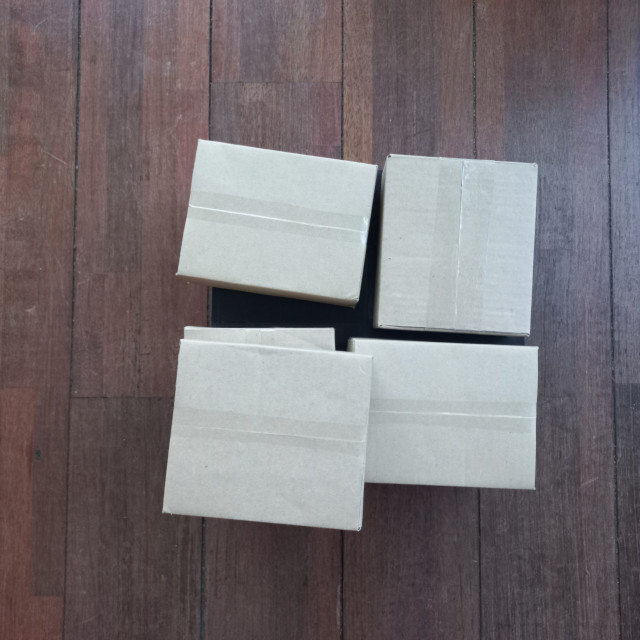box: (161, 333, 375, 534), (174, 137, 379, 308), (372, 150, 540, 339), (347, 337, 541, 492)
